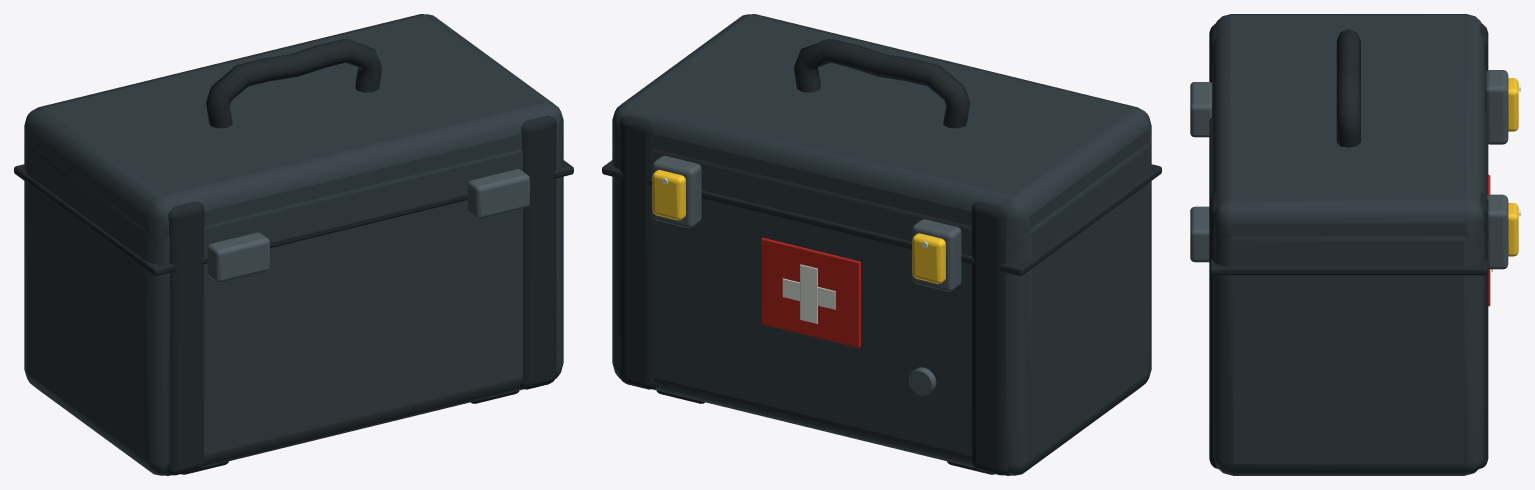
File: equipment_case.glb
The picture shows the model from 3 angles, left to right: view 1: azimuth 30°, elevation 25°; view 2: azimuth 150°, elevation 25°; view 3: azimuth 270°, elevation 25°; orthographic projection.
Visible parts, largest first — view 1: equipment_case_render_mesh; view 2: equipment_case_render_mesh; view 3: equipment_case_render_mesh.
Part boxes in pixels (x1,y1,x2,y2): equipment_case_render_mesh: (14,14,573,475); equipment_case_render_mesh: (602,14,1161,475); equipment_case_render_mesh: (1190,14,1520,475).
Size of the model in its own units: 0.55 by 0.4269 by 0.3804.
